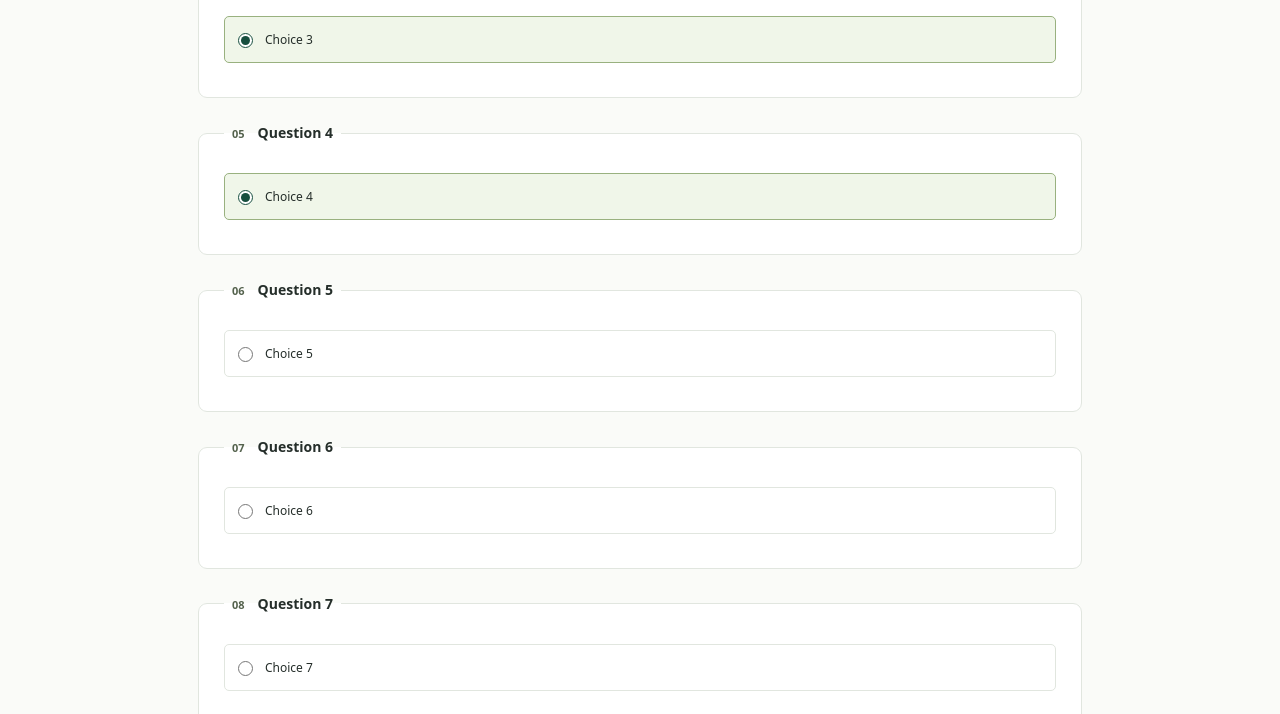
Scenario: Quiz workflow › shows only the score after a failed attempt and offers the lesson
Earlier steps of the test are not shown.
(page scrolled)
Click the radio button labelled "Choice 5" at (246, 354), box [238,347,253,362]
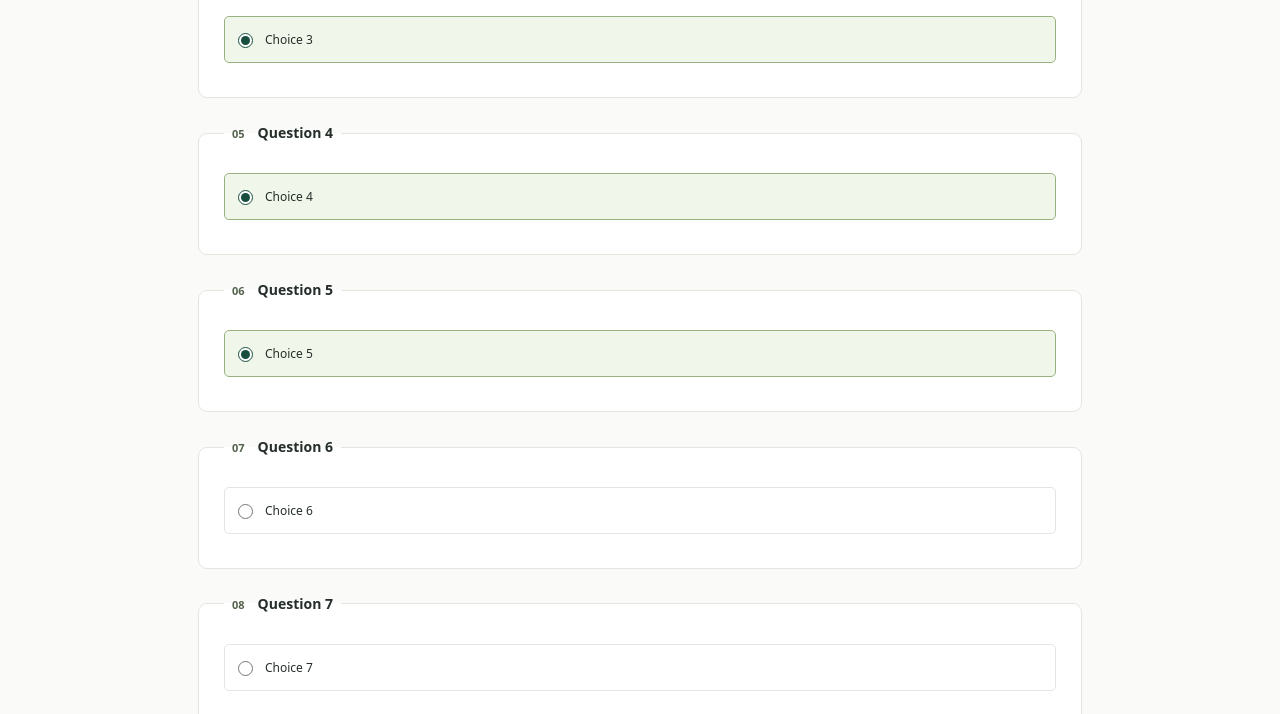
Click the radio button labelled "Choice 6" at (246, 511), box [238,504,253,519]
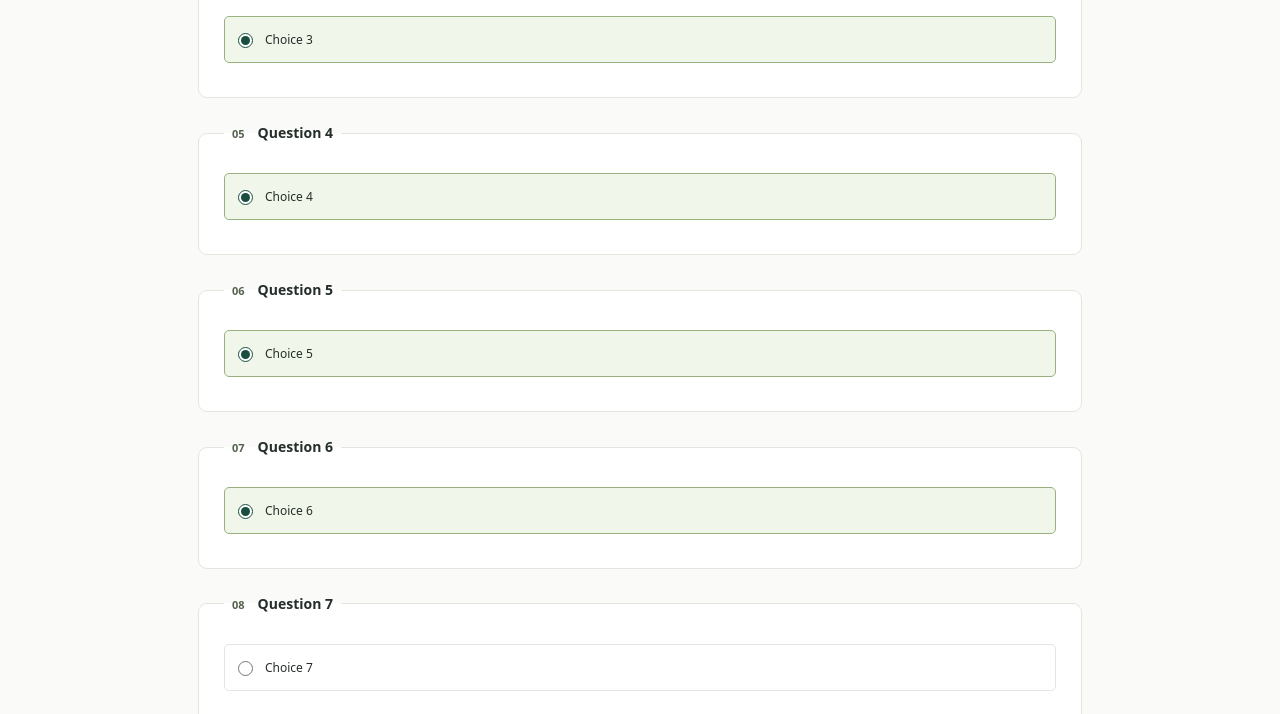
Click the radio button labelled "Choice 7" at (246, 668), box [238,661,253,676]
(page scrolled)
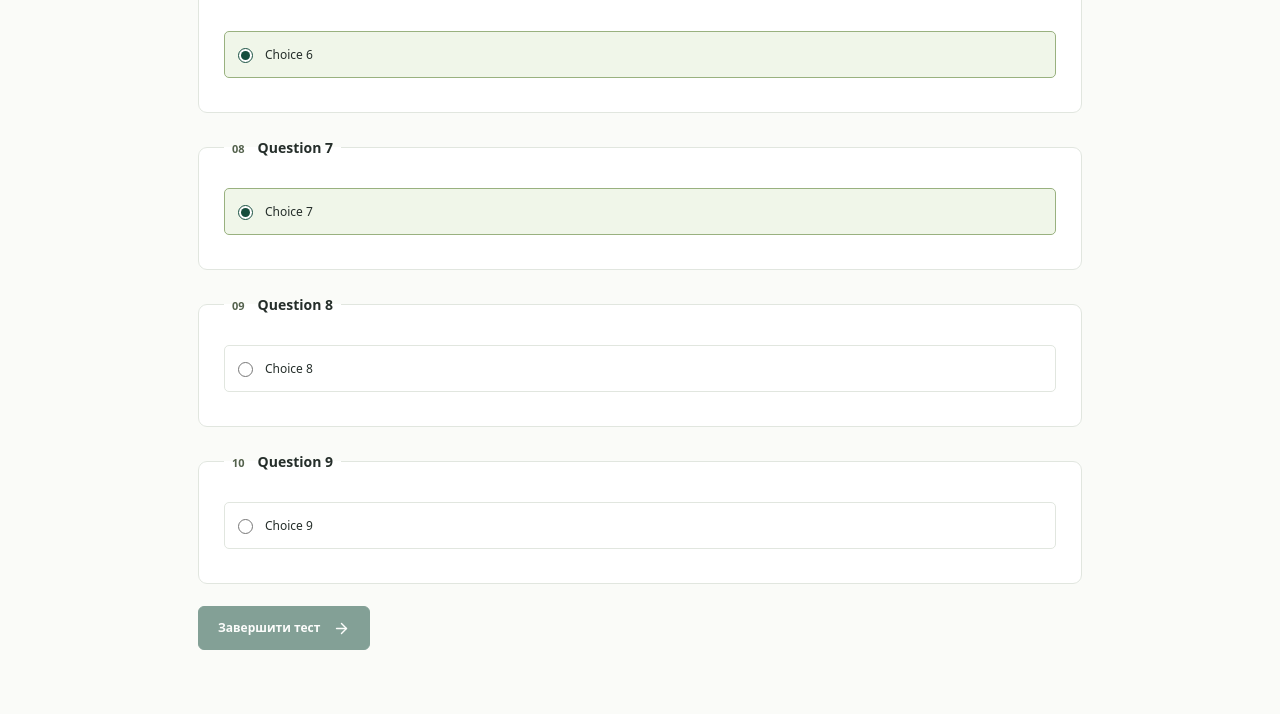
Click the radio button labelled "Choice 8" at (246, 369), box [238,362,253,377]
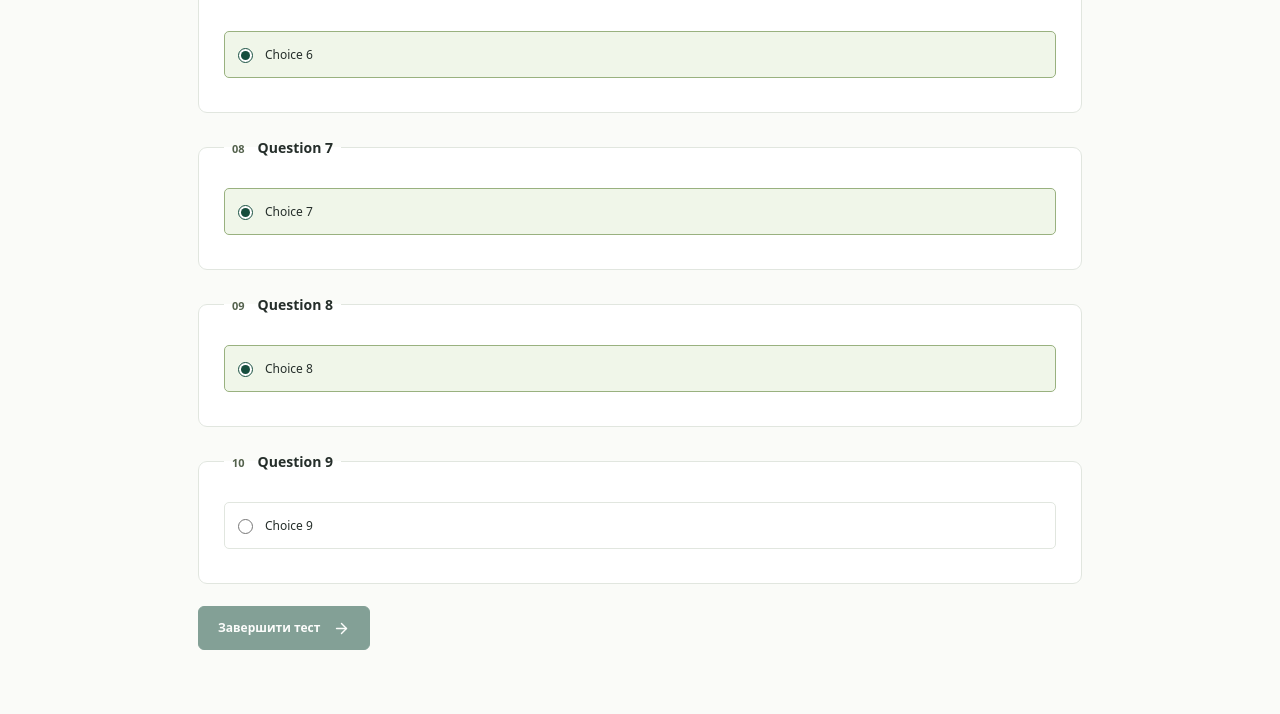
Click the radio button labelled "Choice 9" at (246, 526), box [238,518,253,534]
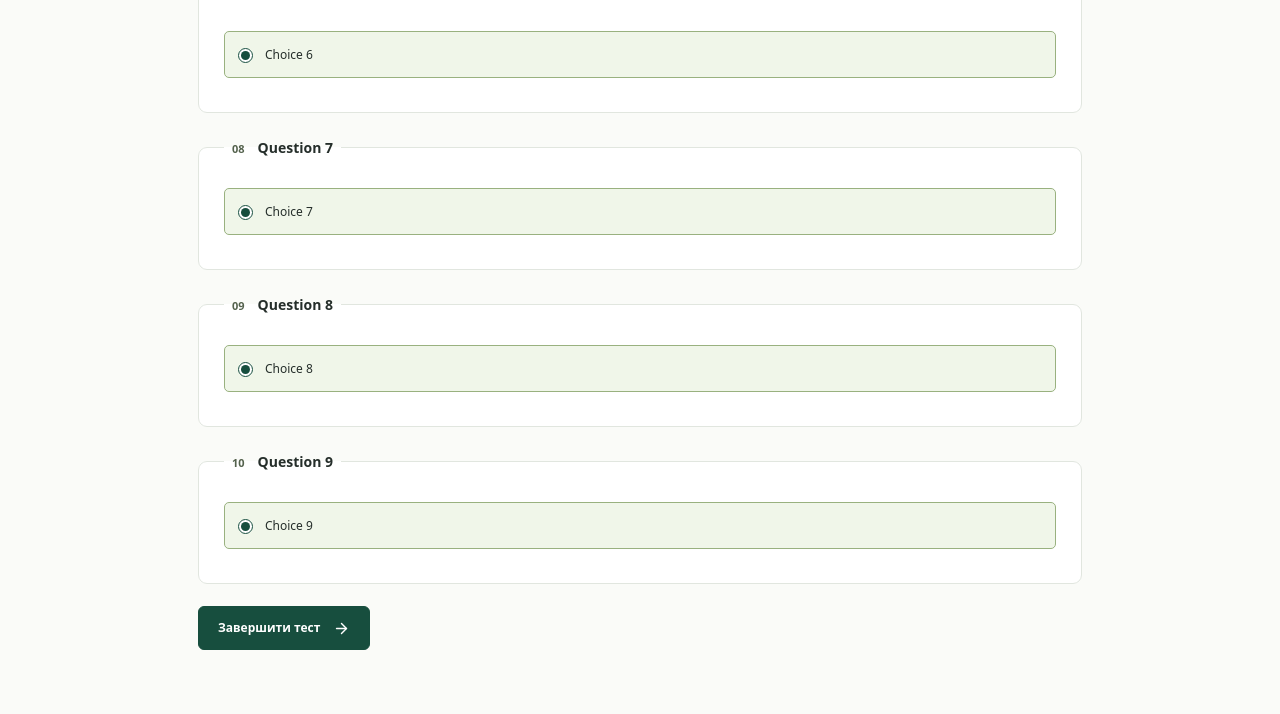
Click the button "Завершити тест" at (284, 628), box [198,606,370,650]
(page scrolled)
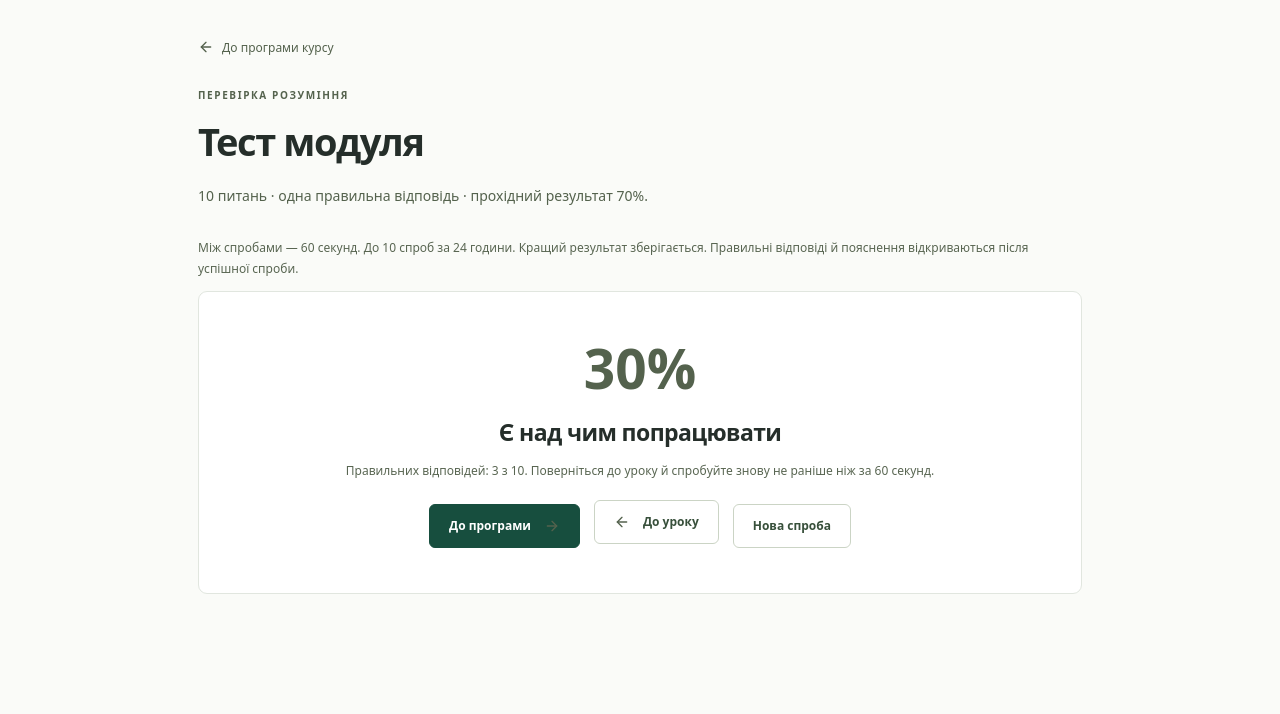
Expected: the heading "Є над чим попрацювати" is shown, [499,416,781,448]
Expected: the text "Правильних відповідей: 3 з 10" is shown, [346,462,934,478]
